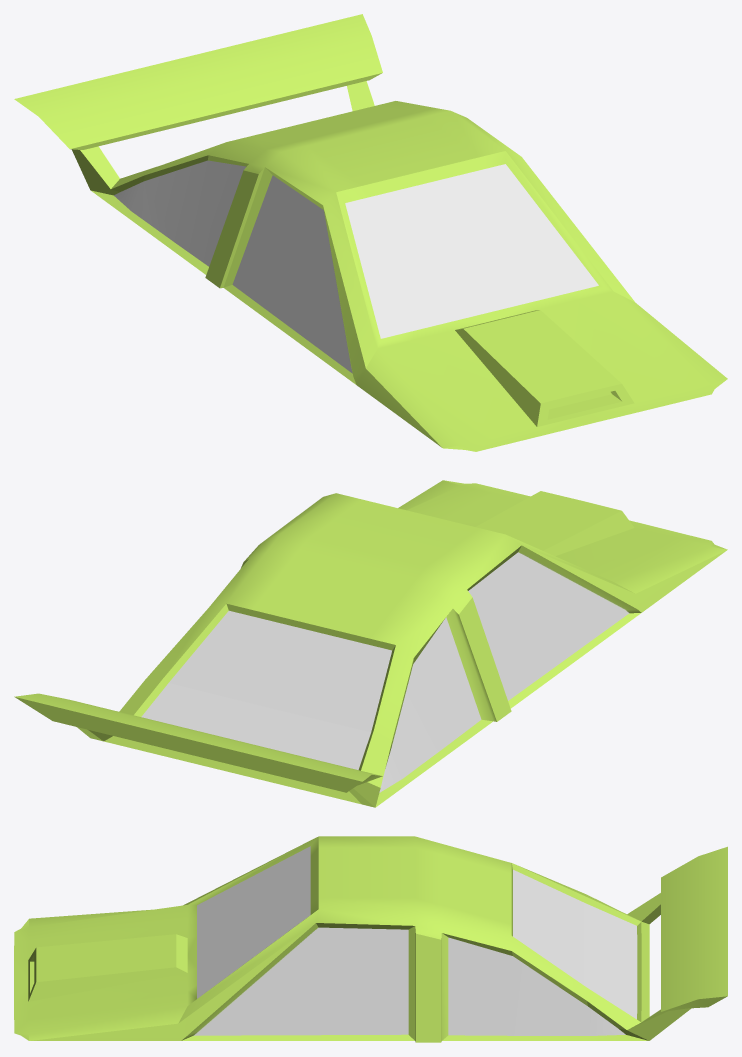
The model's file is SPORT-TOP.glb.
3 views of the same model, one above another, from view 1: azimuth 30°, elevation 25°; view 2: azimuth 150°, elevation 25°; view 3: azimuth 270°, elevation 25° (orthographic). The views are drawn at different scales.
Size of the model in its own units: 1.83 by 0.6283 by 3.7.
Materials: 1 (1 with a texture image).
